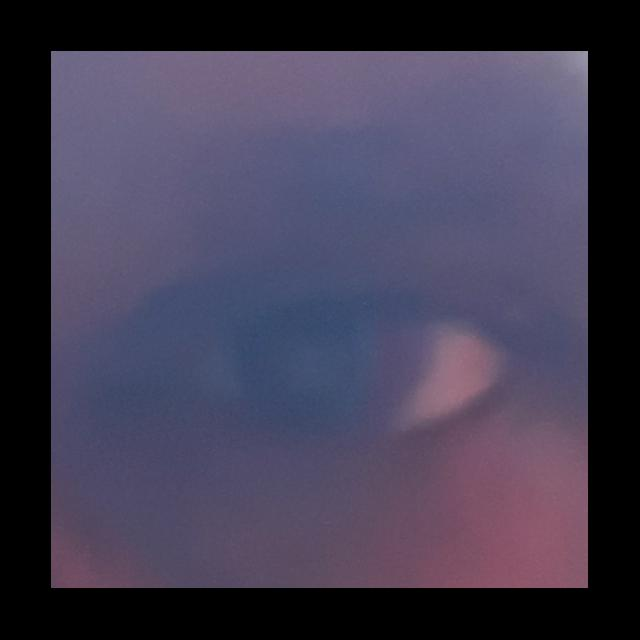eye: (185, 310, 510, 436)
iris: (238, 318, 387, 425)
